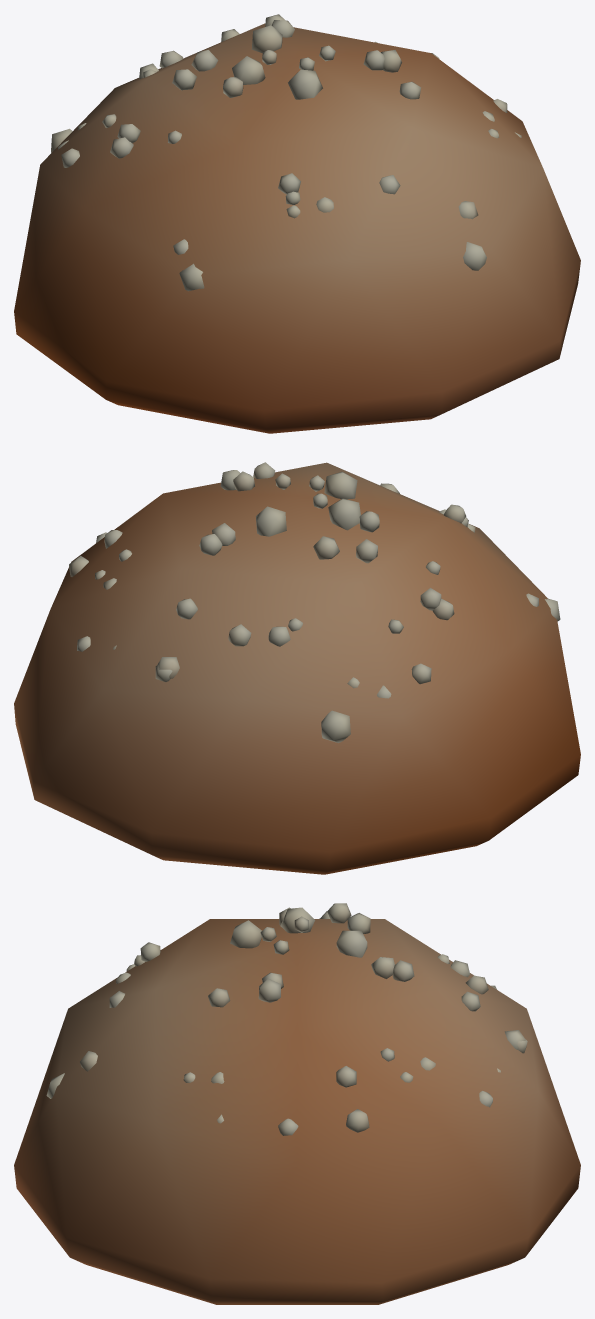
File: BunSesame.glb
The picture shows the model from 3 angles, top to bottom: view 1: azimuth 30°, elevation 25°; view 2: azimuth 150°, elevation 25°; view 3: azimuth 270°, elevation 25°; orthographic projection. The views are drawn at different scales.
Parts seen in each view (by area): view 1: geometry_0; view 2: geometry_0; view 3: geometry_0.
Boxes of the visible parts, x1=… form: geometry_0: x1=14, y1=14, x2=580, y2=433; geometry_0: x1=14, y1=462, x2=580, y2=874; geometry_0: x1=14, y1=903, x2=580, y2=1304.
Bounding box in the file's own units: 0.0819 × 0.0478 × 0.0861.
Materials: 1 (1 with a texture image).
